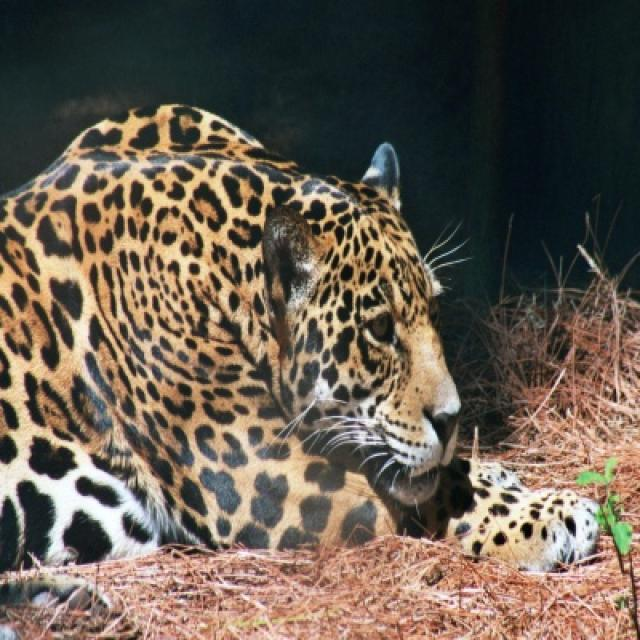Jaguar: (0, 104, 602, 576)
